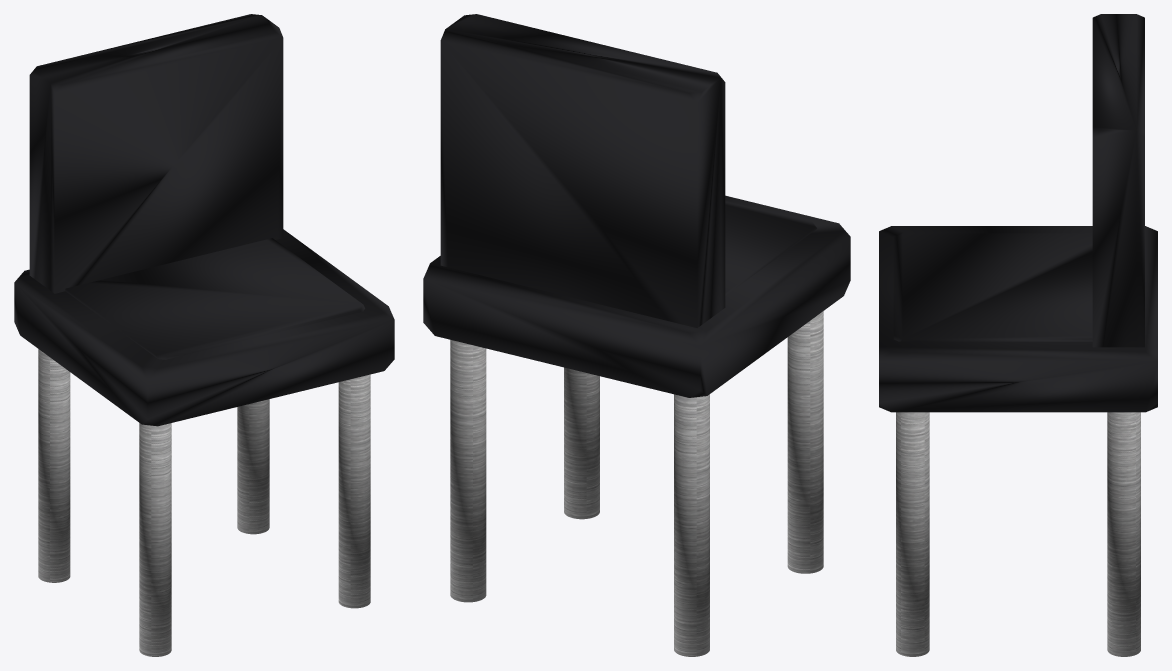
Rendered from 06_simple_chair.glb.
The picture shows the model from 3 angles, left to right: view 1: azimuth 30°, elevation 25°; view 2: azimuth 150°, elevation 25°; view 3: azimuth 270°, elevation 25°; orthographic projection. The views are drawn at different scales.
Parts seen in each view (by area): view 1: Chair; view 2: Chair; view 3: Chair.
Boxes of the visible parts, <box> form: Chair: <box>14,14,394,656</box>; Chair: <box>423,14,850,656</box>; Chair: <box>879,14,1157,656</box>.
Bounding box in the file's own units: 0.5305 × 1.04 × 0.4963.
Materials: 3 (1 with a texture image).
